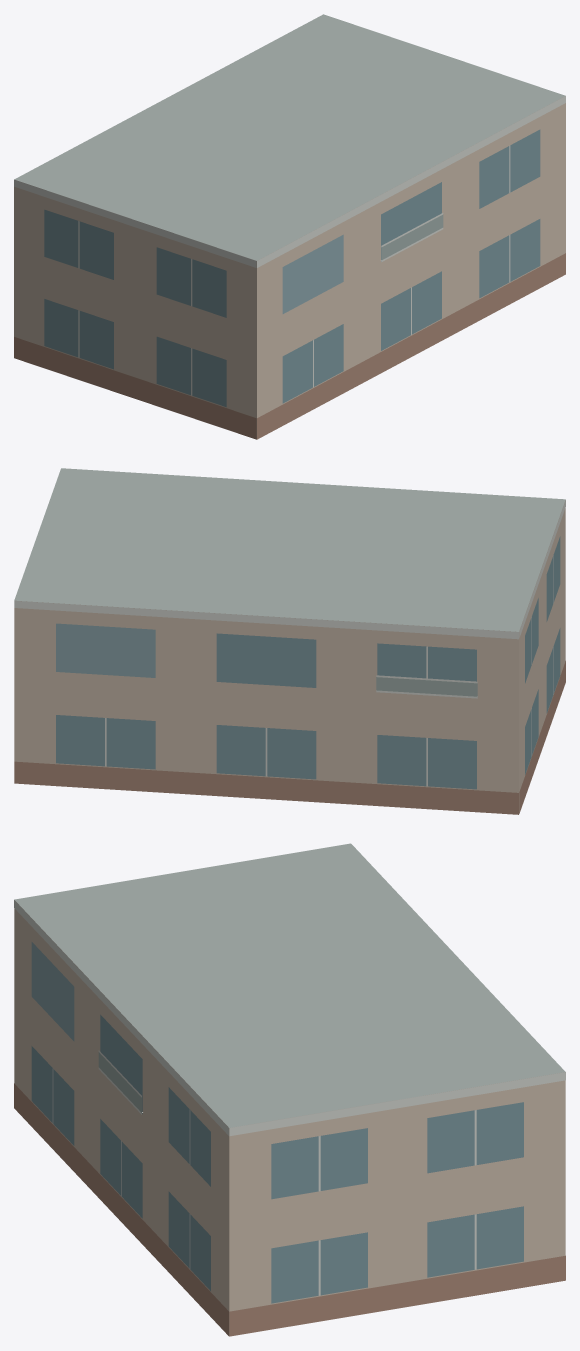
Rendered from survey-upis-32697640.glb.
3 views of the same model, one above another, from view 1: azimuth 30°, elevation 25°; view 2: azimuth 150°, elevation 25°; view 3: azimuth 270°, elevation 25° (orthographic). The views are drawn at different scales.
Visible parts, largest first — view 1: survey-upis-32697640.tmp; view 2: survey-upis-32697640.tmp; view 3: survey-upis-32697640.tmp.
Part boxes in pixels (x1=…): survey-upis-32697640.tmp: x1=14, y1=14, x2=565, y2=439; survey-upis-32697640.tmp: x1=14, y1=468, x2=565, y2=814; survey-upis-32697640.tmp: x1=14, y1=843, x2=565, y2=1336.
Bounding box in the file's own units: 17.86 × 6.1 × 14.63.
